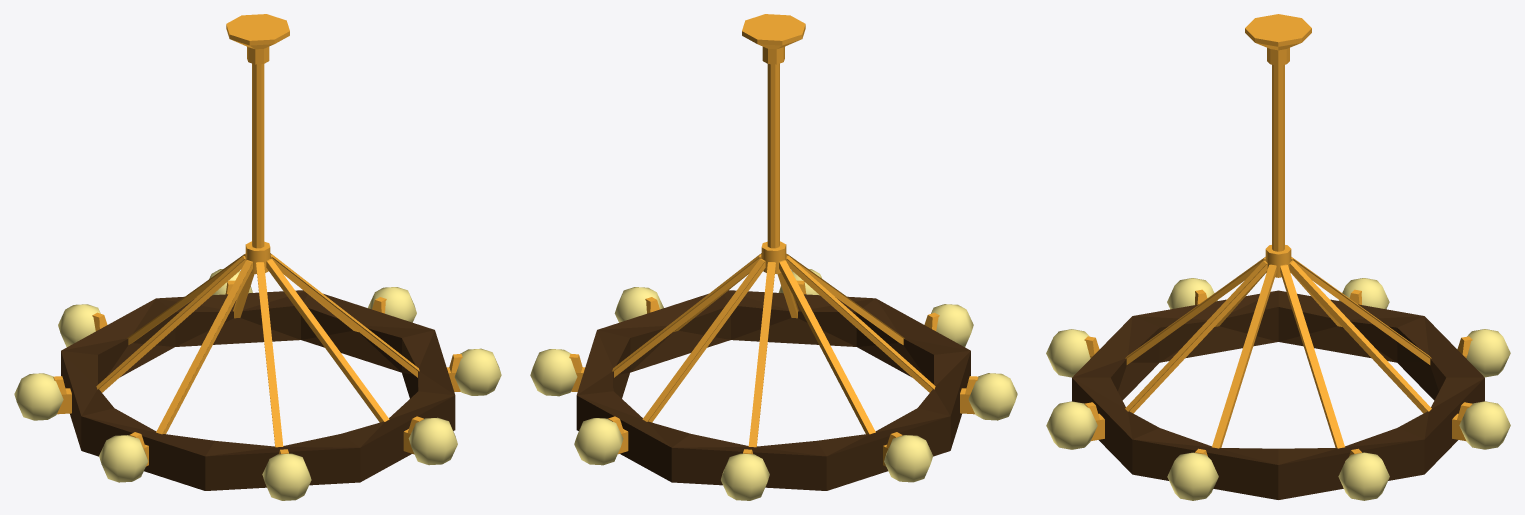
The model's file is Entry Chandelier.FBX.
3 renders of one model, left to right at view 1: azimuth 30°, elevation 25°; view 2: azimuth 150°, elevation 25°; view 3: azimuth 270°, elevation 25°, orthographic.
Parts seen in each view (by area): view 1: Tube001; view 2: Tube001; view 3: Tube001.
Part boxes in pixels (box(x1,y1,x2,y2)): Tube001: box(14, 14, 501, 500); Tube001: box(530, 14, 1017, 500); Tube001: box(1046, 14, 1510, 500).
Bounding box in the file's own units: 9 × 8.22 × 9.
